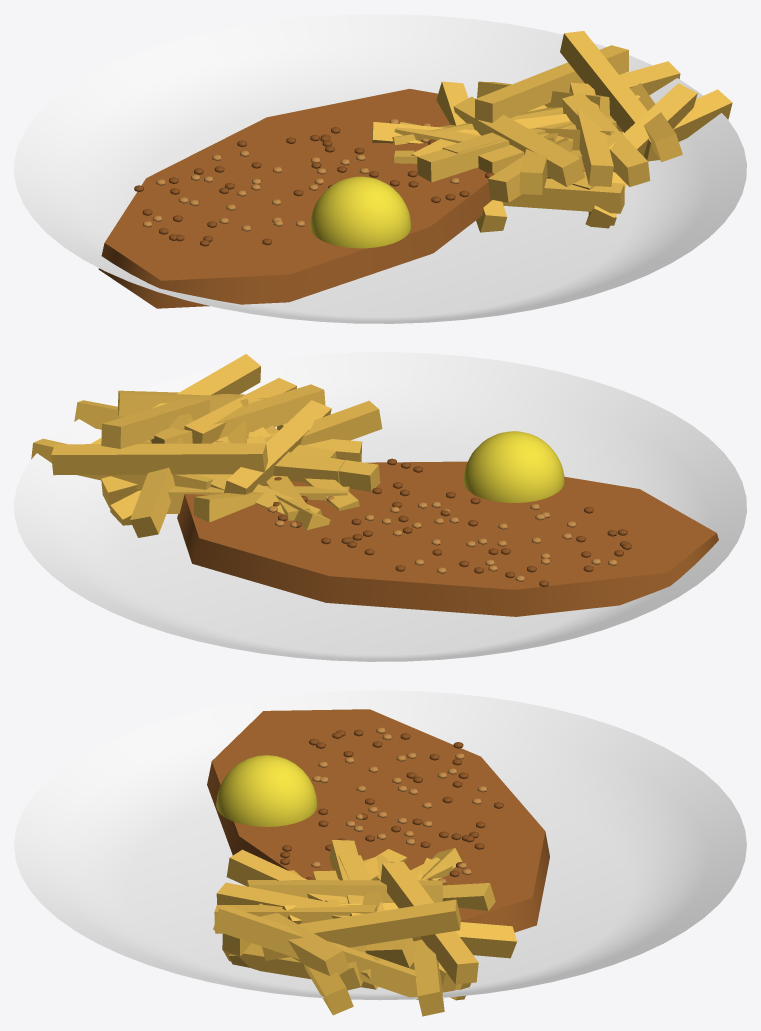
Rendered from milanesa.glb.
3 renders of one model, top to bottom at view 1: azimuth 30°, elevation 25°; view 2: azimuth 150°, elevation 25°; view 3: azimuth 270°, elevation 25°, orthographic.
Bounding box in the file's own units: 0.2932 × 0.0461 × 0.29.
